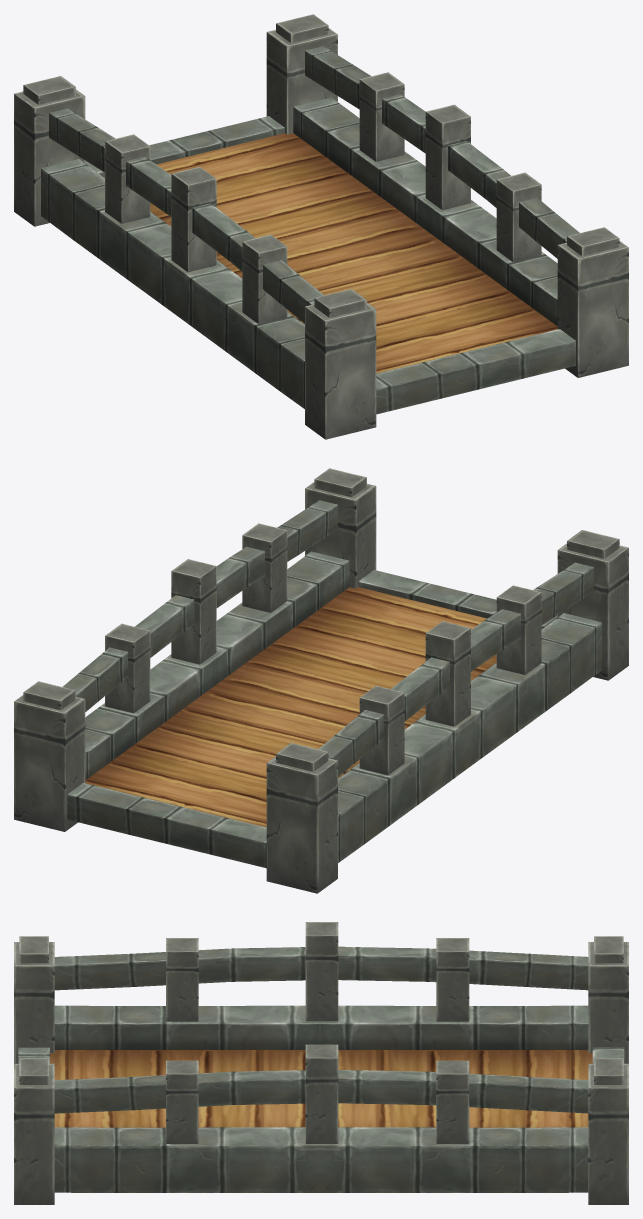
Rendered from bridge_03b_02.fbx.
3 views of the same model, one above another, from view 1: azimuth 30°, elevation 25°; view 2: azimuth 150°, elevation 25°; view 3: azimuth 270°, elevation 25° (orthographic).
Visible parts, largest first — view 1: bridge_03b_02; view 2: bridge_03b_02; view 3: bridge_03b_02.
Boxes of the visible parts, bbox=[...] form: bridge_03b_02: bbox=[14, 14, 628, 439]; bridge_03b_02: bbox=[14, 468, 628, 893]; bridge_03b_02: bbox=[14, 922, 628, 1204].
Size of the model in its own units: 2.47 by 1.12 by 4.4.
